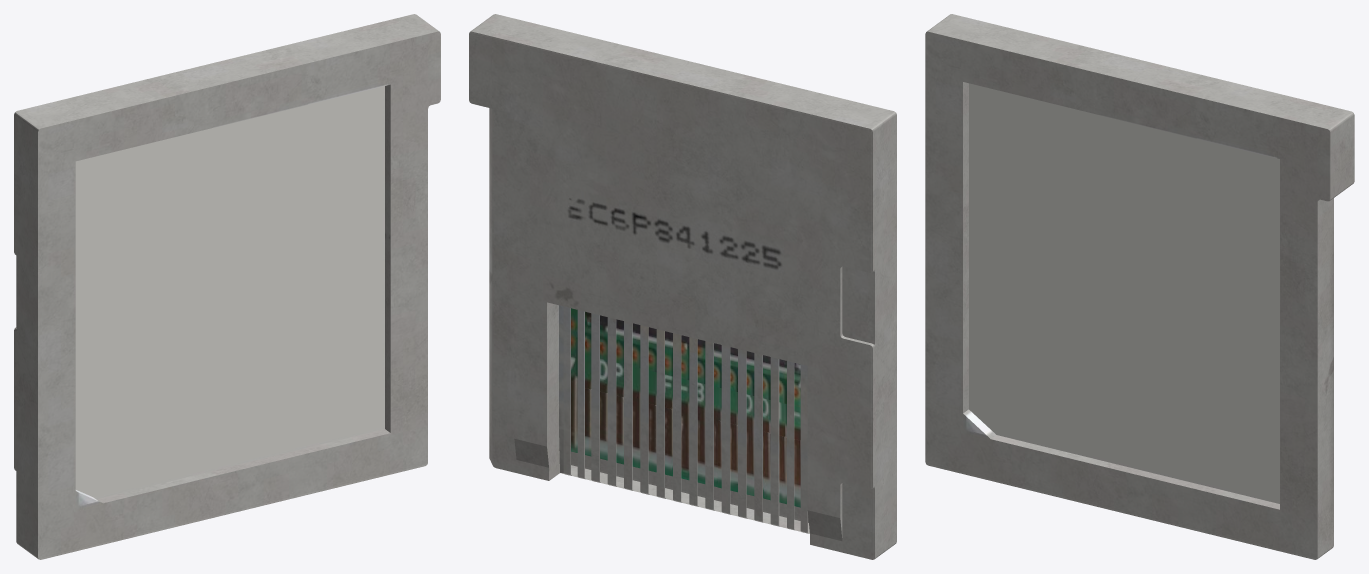
3 renders of one model, left to right at view 1: azimuth 30°, elevation 25°; view 2: azimuth 150°, elevation 25°; view 3: azimuth 330°, elevation 25°, orthographic.
Visible parts, largest first — view 1: DS_CARTRIDGE; view 2: DS_CARTRIDGE, DS_Game_Chip1; view 3: DS_CARTRIDGE.
Boxes of the visible parts, bbox=[...] form: DS_CARTRIDGE: bbox=[14, 14, 440, 559]; DS_CARTRIDGE: bbox=[469, 14, 896, 559]; DS_Game_Chip1: bbox=[571, 308, 800, 507]; DS_CARTRIDGE: bbox=[925, 14, 1354, 559].
Bounding box in the file's own units: 0.0325 × 0.0333 × 0.00335.
Materials: 2 (2 with a texture image).
